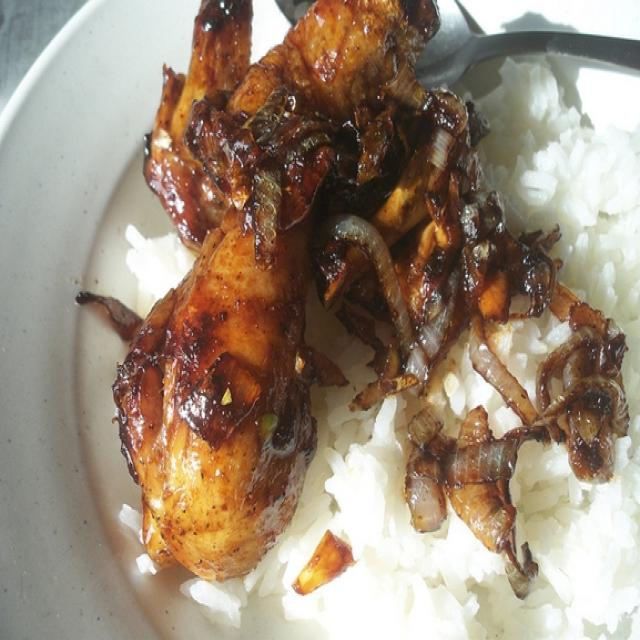鸡肉料理 含炸鸡: (46, 24, 611, 594)
